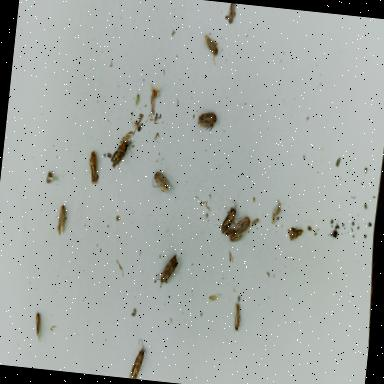pbw: (110, 131, 136, 173), (128, 336, 148, 380), (154, 252, 178, 288), (219, 199, 238, 235), (201, 34, 220, 68), (145, 84, 160, 120), (86, 150, 101, 186), (196, 111, 218, 133), (151, 171, 171, 195), (234, 215, 252, 240), (54, 204, 67, 238), (232, 303, 242, 334), (285, 226, 304, 242), (33, 311, 42, 343), (228, 230, 242, 244), (228, 3, 236, 26), (224, 228, 236, 238), (250, 218, 258, 227), (228, 251, 232, 263)
